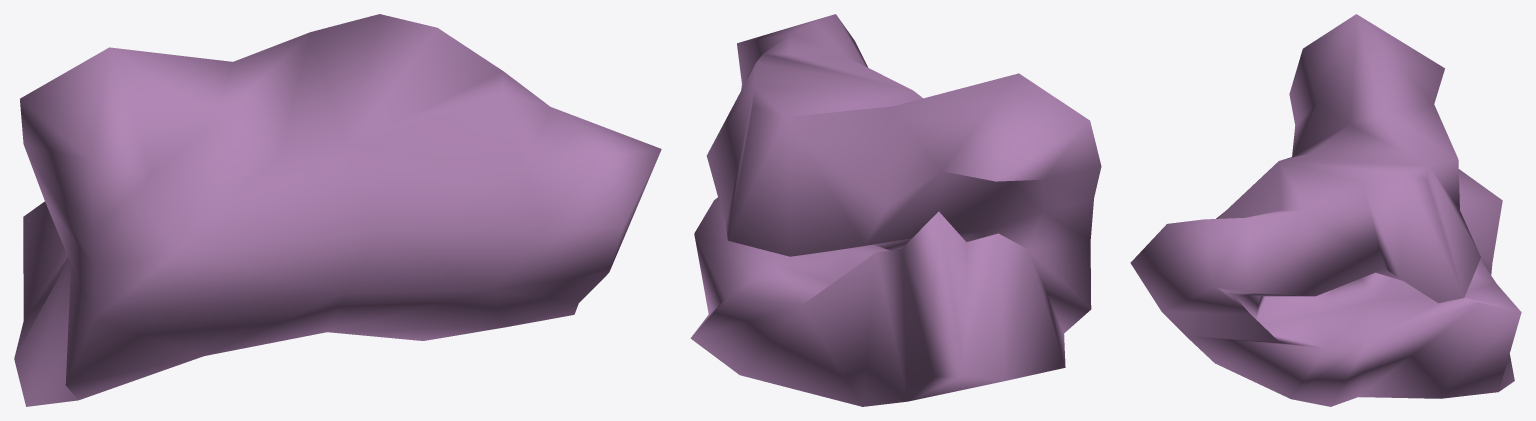
3 views of the same model, side by side, from view 1: azimuth 30°, elevation 25°; view 2: azimuth 150°, elevation 25°; view 3: azimuth 270°, elevation 25° (orthographic). The views are drawn at different scales.
Parts seen in each view (by area): view 1: 左侧外侧沟前升支; view 2: 左侧外侧沟前升支; view 3: 左侧外侧沟前升支.
Boxes of the visible parts, left/top/right/bottom form: 左侧外侧沟前升支: left=14, top=14, right=661, bottom=406; 左侧外侧沟前升支: left=690, top=14, right=1101, bottom=406; 左侧外侧沟前升支: left=1130, top=14, right=1521, bottom=406.
Size of the model in its own units: 0.0225 by 0.0158 by 0.0194.
